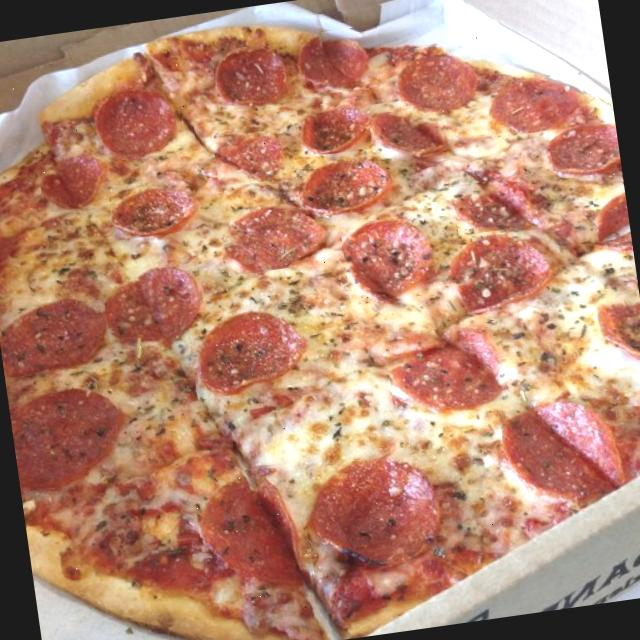pepperoni: (300, 448, 454, 574), (192, 463, 314, 603), (498, 390, 630, 518), (7, 380, 128, 492), (384, 320, 507, 420), (186, 302, 308, 400), (100, 260, 206, 352), (450, 231, 552, 317), (341, 218, 434, 306), (0, 301, 105, 378), (90, 83, 186, 163), (394, 40, 486, 118), (221, 206, 323, 276), (485, 73, 587, 138), (296, 156, 399, 220), (296, 24, 384, 97), (210, 43, 292, 112), (452, 175, 542, 236), (109, 186, 198, 240), (212, 126, 289, 188), (368, 106, 446, 164), (296, 98, 370, 158), (37, 152, 108, 214), (548, 121, 622, 180), (594, 290, 640, 371), (592, 190, 632, 242)
pizza: (0, 27, 640, 640)
